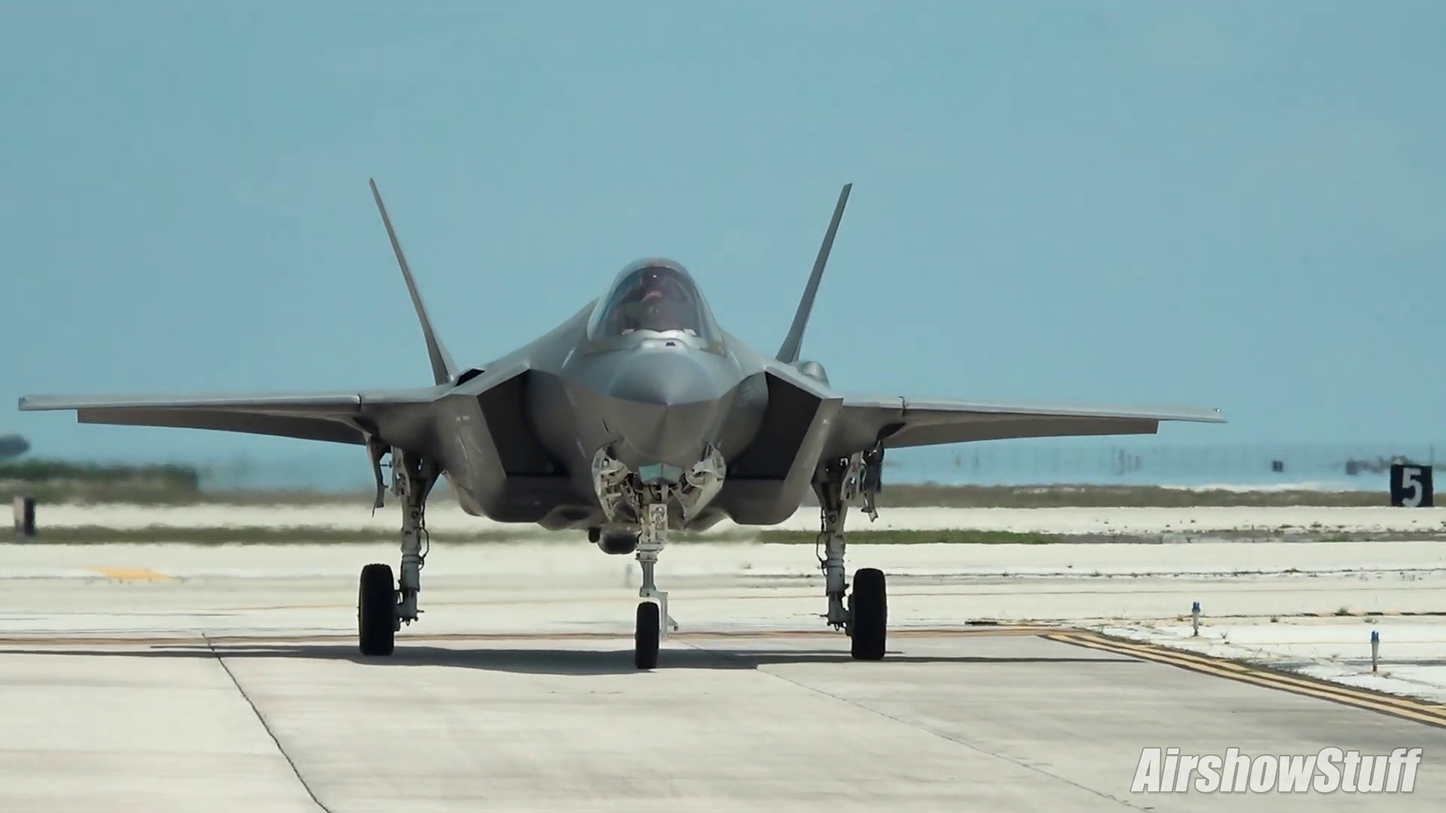F35: (11, 166, 1240, 680)
